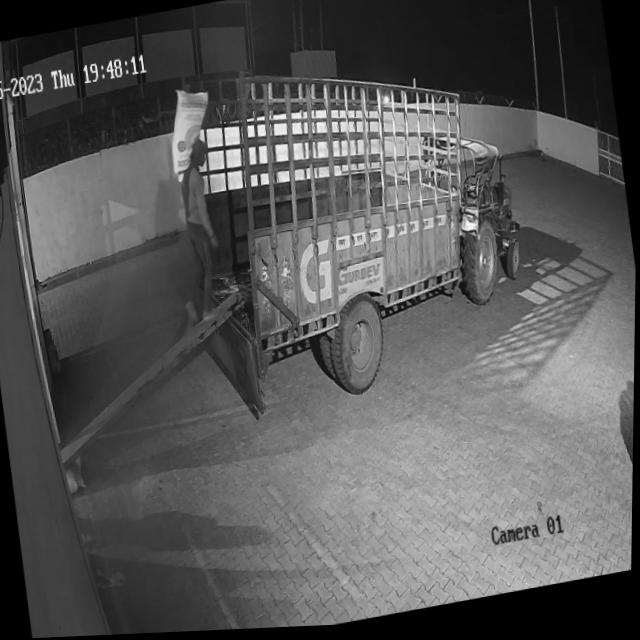sack: (162, 85, 220, 185)
